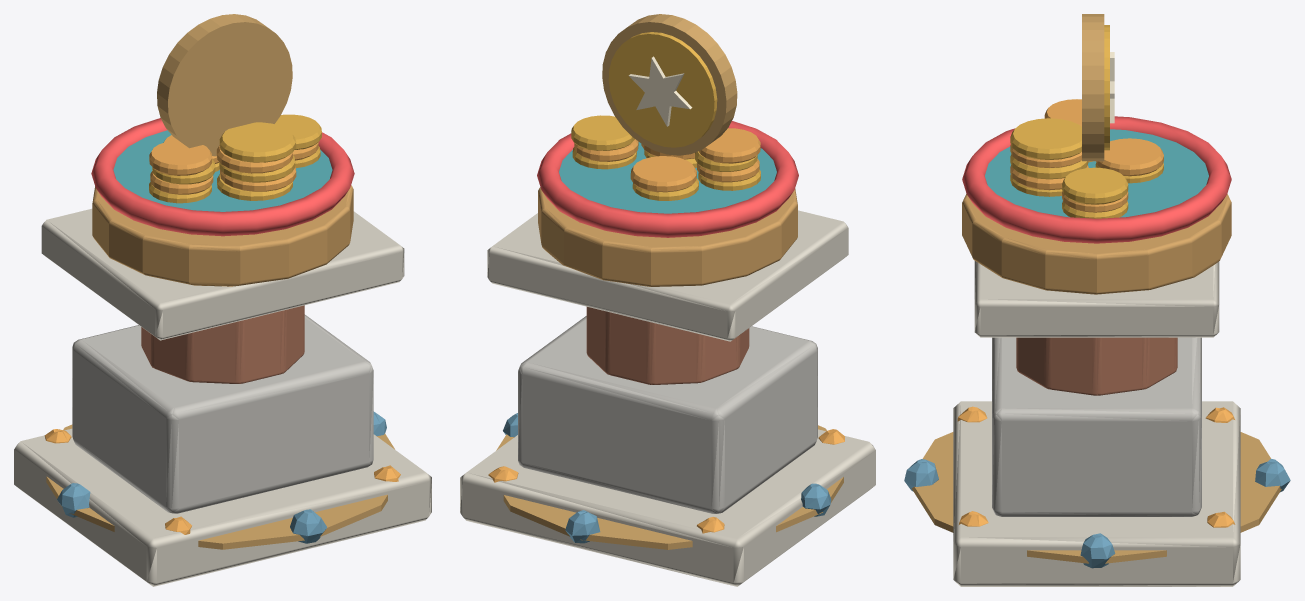
File: SM_Rest_Gold.fbx
3 views of the same model, side by side, from view 1: azimuth 30°, elevation 25°; view 2: azimuth 150°, elevation 25°; view 3: azimuth 270°, elevation 25° (orthographic). The views are drawn at different scales.
Visible parts, largest first — view 1: SM_Rest_Gold; view 2: SM_Rest_Gold; view 3: SM_Rest_Gold.
Part boxes in pixels (x1,y1,x2,y2): SM_Rest_Gold: [14, 14, 431, 586]; SM_Rest_Gold: [460, 14, 875, 586]; SM_Rest_Gold: [904, 14, 1290, 586].
Bounding box in the file's own units: 153 × 155 × 220.
